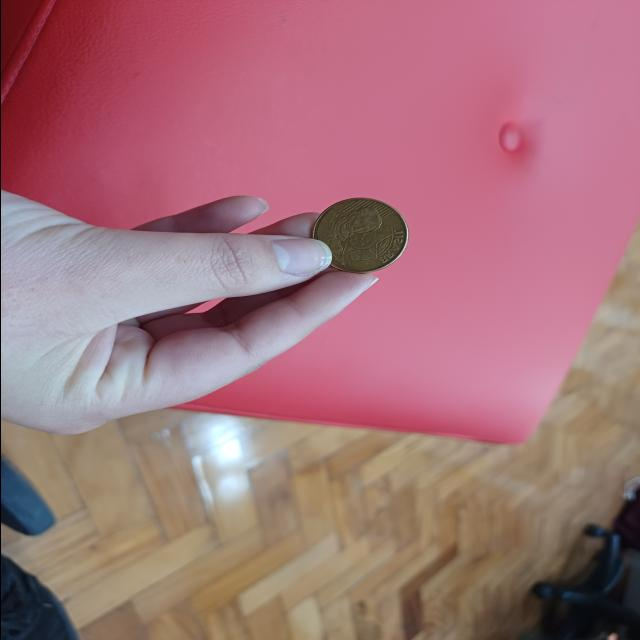25 cents: (315, 198, 409, 281)
